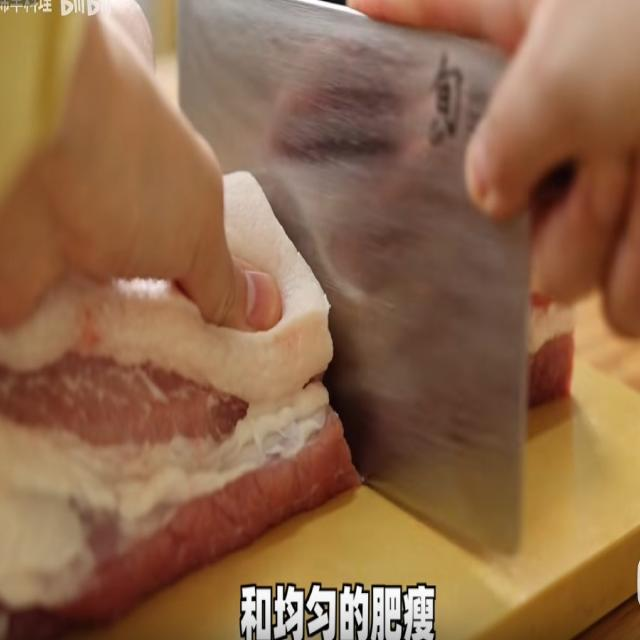pork: (1, 286, 359, 559)
